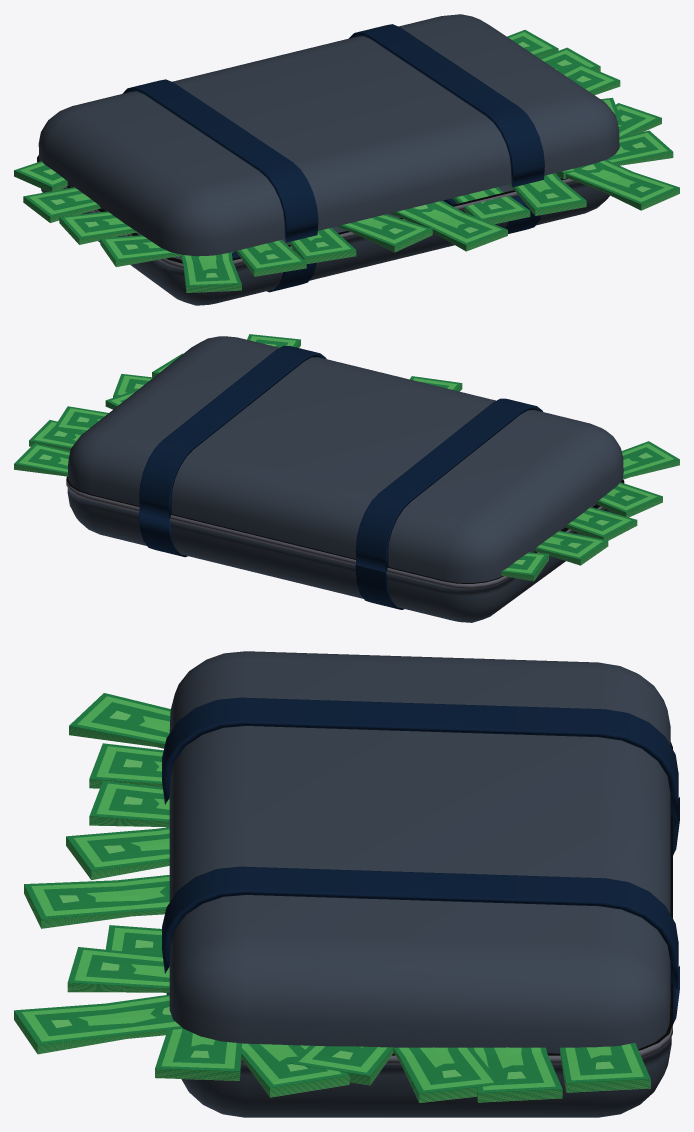
File: Target1.fbx
The picture shows the model from 3 angles, top to bottom: view 1: azimuth 30°, elevation 25°; view 2: azimuth 150°, elevation 25°; view 3: azimuth 270°, elevation 25°; orthographic projection. The views are drawn at different scales.
Parts seen in each view (by area): view 1: Target1; view 2: Target1; view 3: Target1.
Boxes of the visible parts, x1,y1,x2,y2 form: Target1: (14,14,679,305); Target1: (14,334,679,622); Target1: (14,651,679,1117).
Bounding box in the file's own units: 2.51 × 0.5027 × 1.67.
